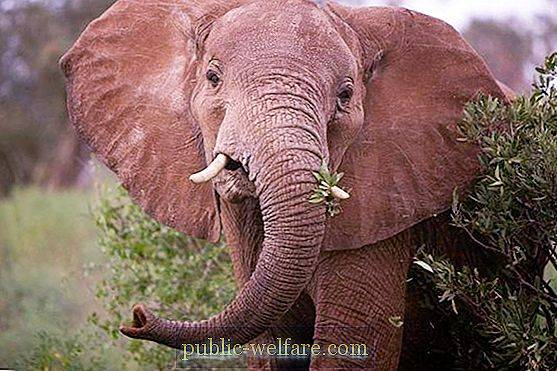Elephant: (54, 3, 518, 366)
